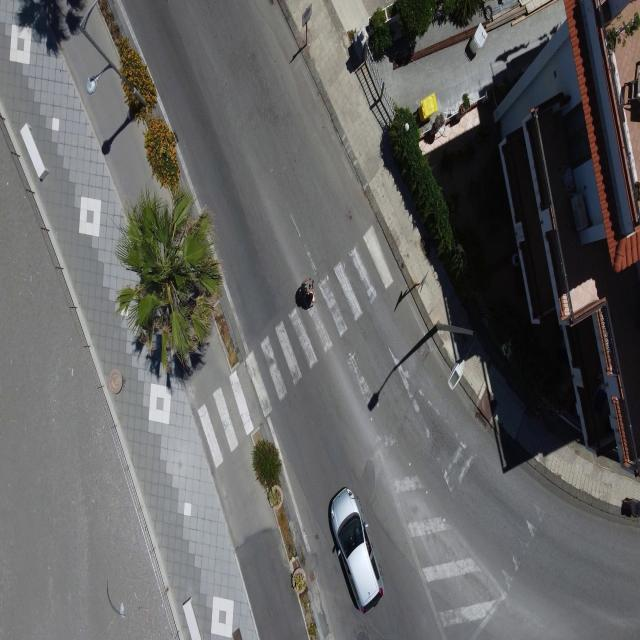Car: (324, 476, 386, 628)
